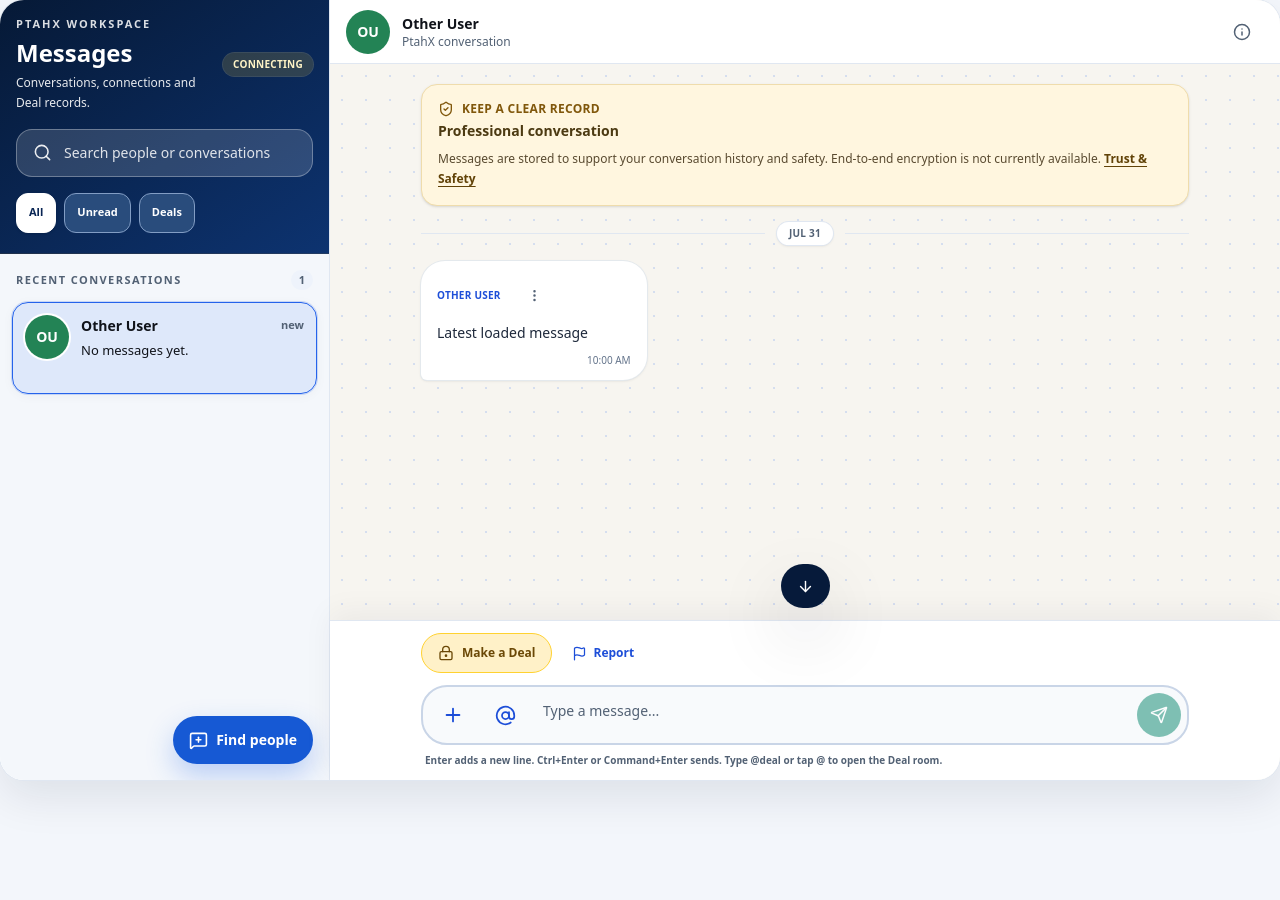
Test: message workspace delivery › optimistic delivery › discards a failed message on request
The width and height of the screenshot is (1280, 900).
Type "Discard me" into the text box labelled "message" at point(832, 715), box [535,693,1129,737]
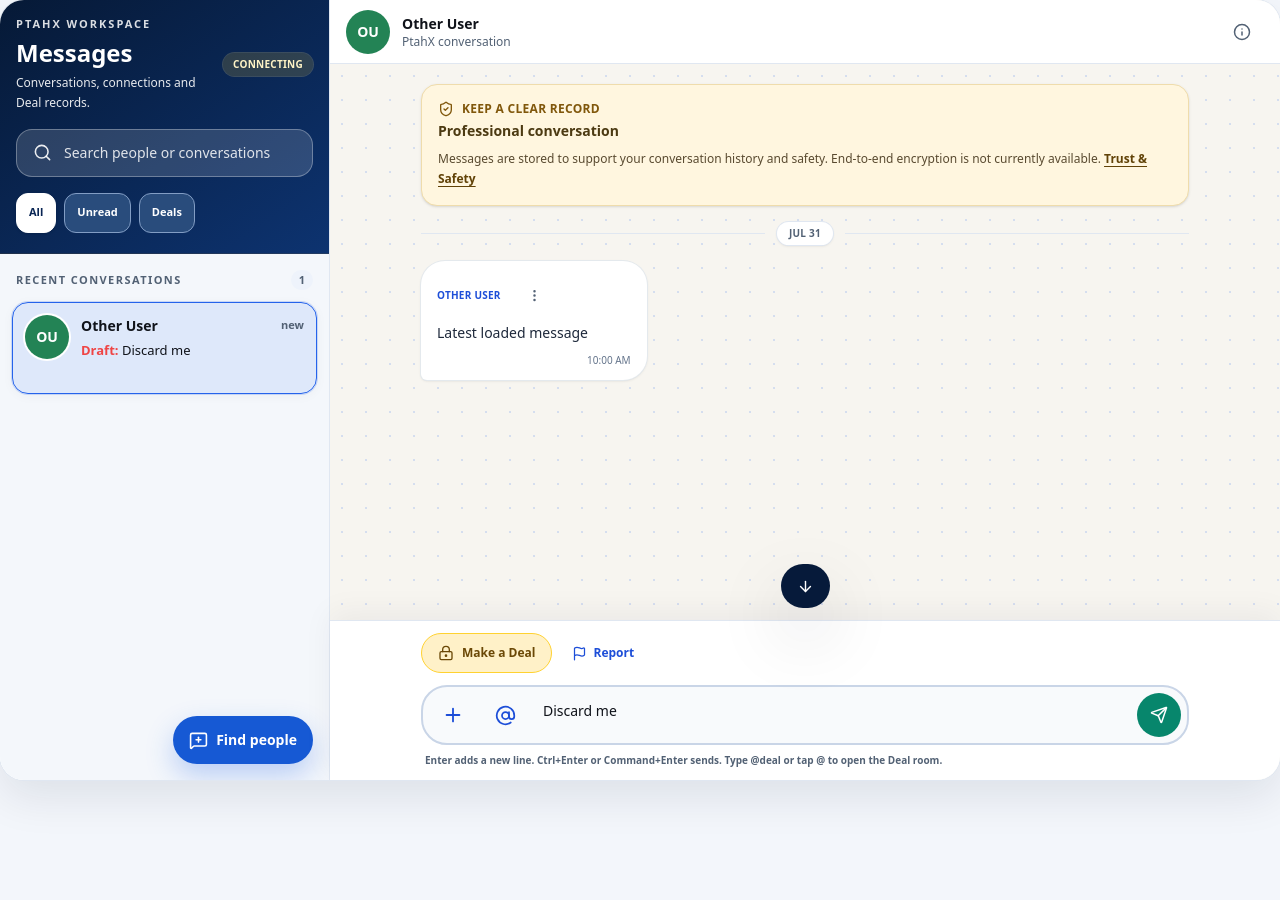
Submit the form named "Message", box [330,620,1279,780]
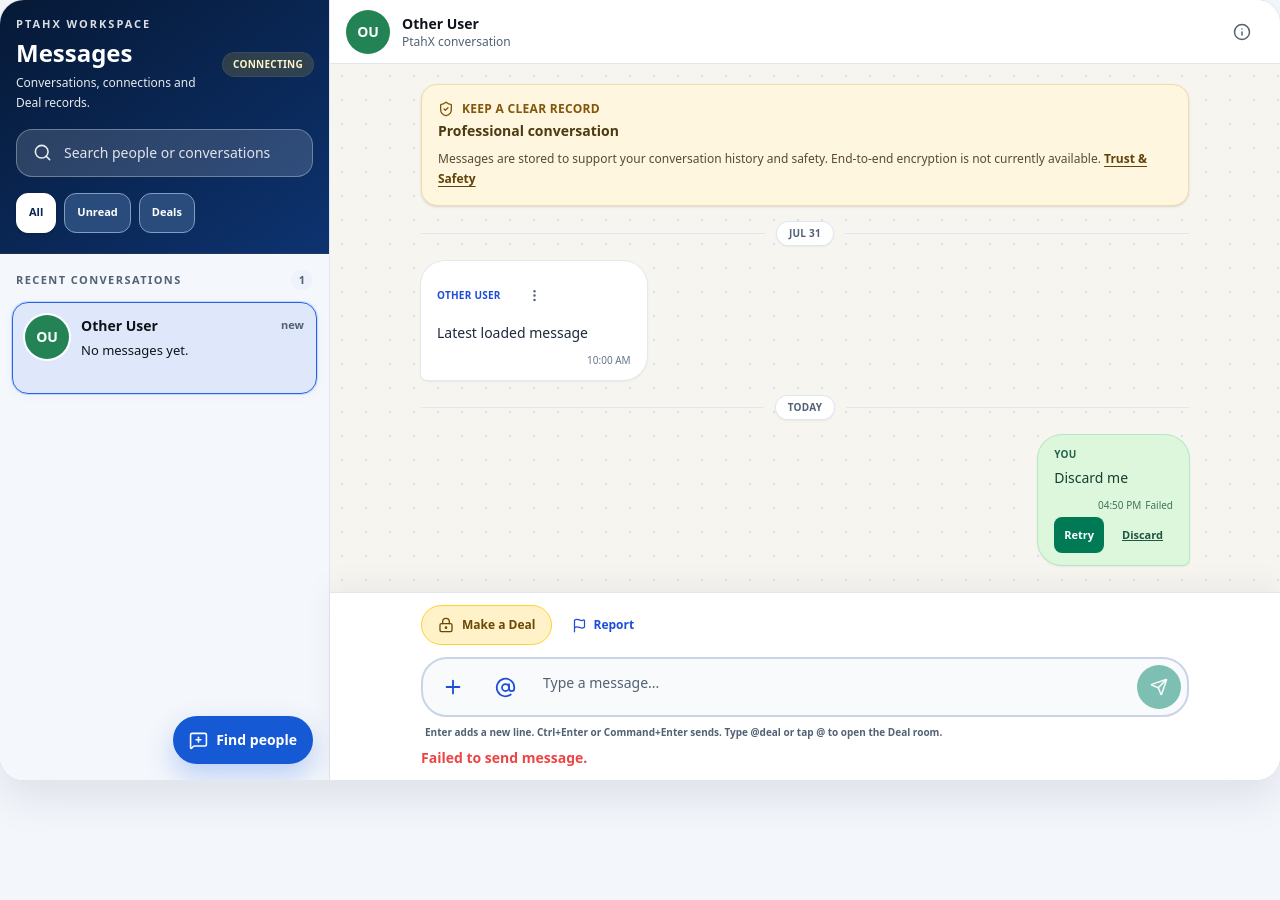
Expected: the button "Discard" is shown
Click the button "Discard" at point(1142, 535), box [1112,517,1173,553]
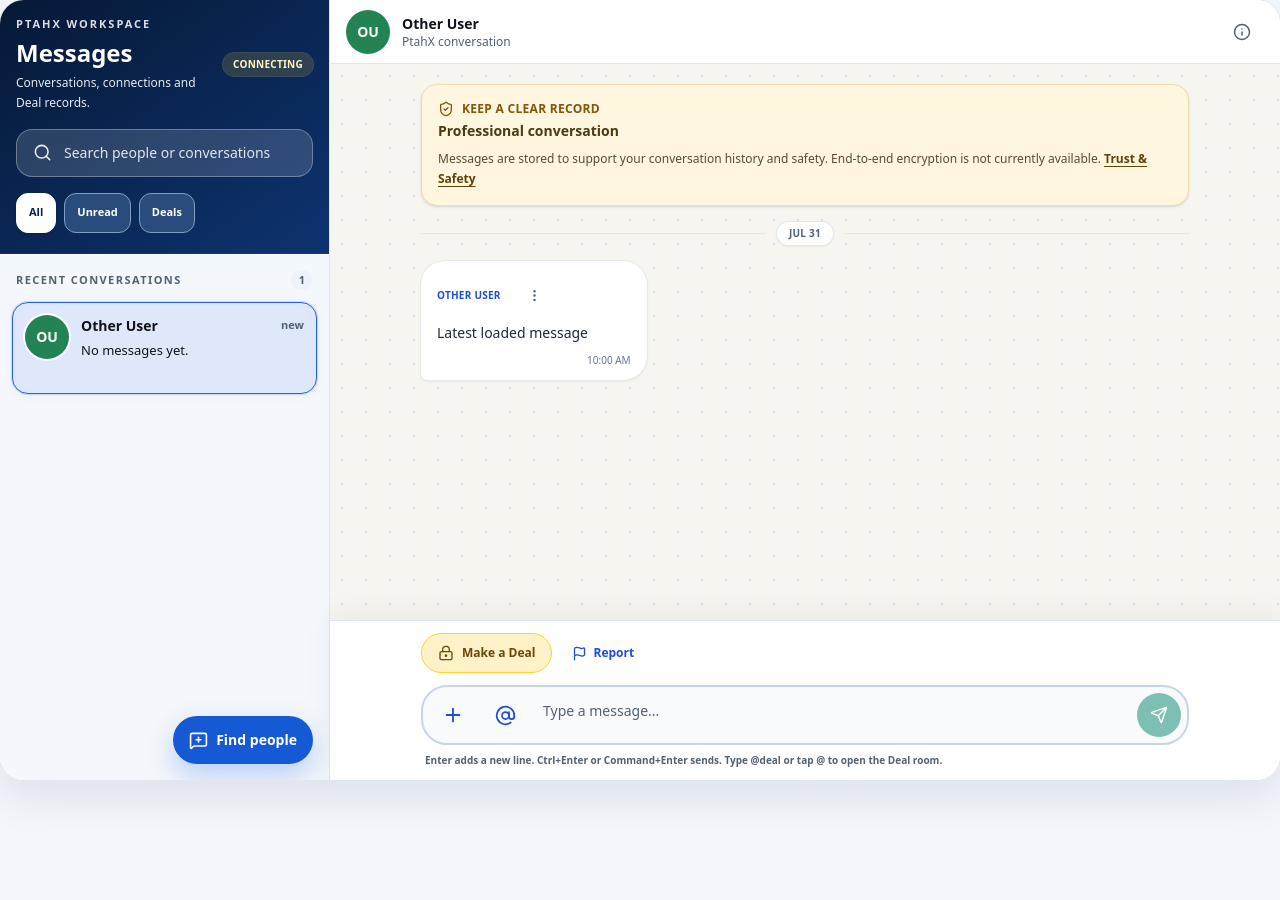
Expected: the text "Discard me" is gone
